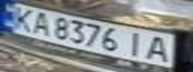3: (66, 18, 87, 45)
6: (100, 25, 124, 53)
7: (81, 21, 103, 50)
8: (48, 15, 72, 42)
A: (142, 34, 175, 63), (27, 10, 54, 37)
I: (121, 29, 151, 57)
K: (3, 4, 39, 32)
